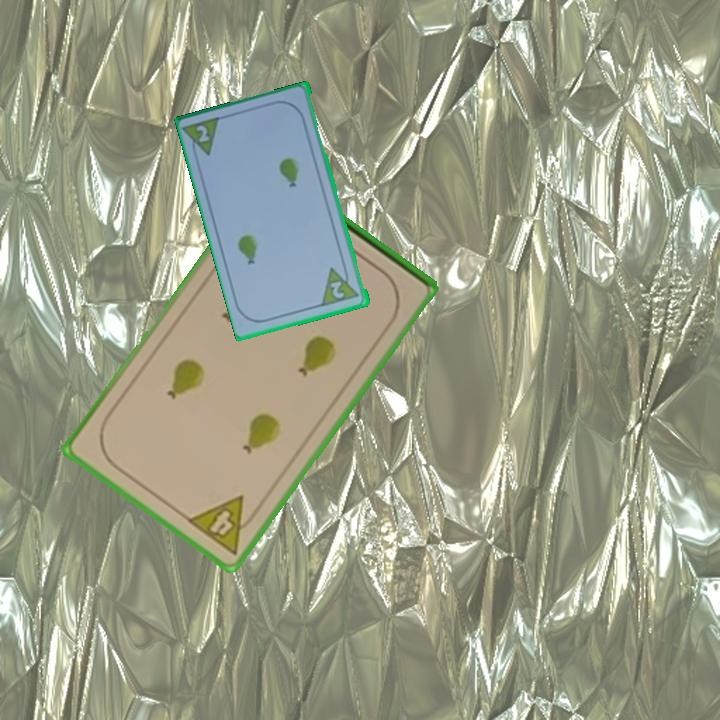2p: (181, 113, 225, 163), (327, 278, 347, 302)
4p: (183, 492, 263, 559)
